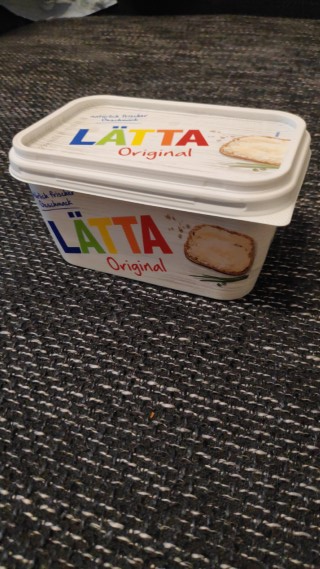laetta: (7, 93, 313, 301)
